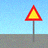sign: (25, 5, 43, 42)
